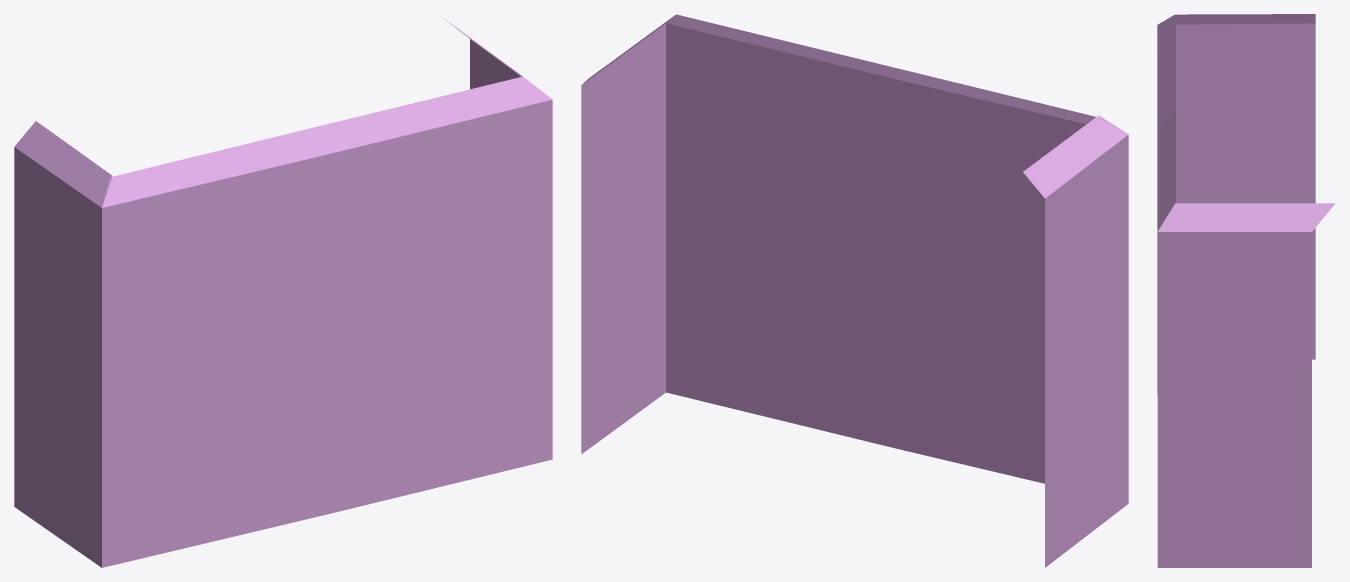
Rendered from Museum_renfort_05.fbx.
3 renders of one model, left to right at view 1: azimuth 30°, elevation 25°; view 2: azimuth 150°, elevation 25°; view 3: azimuth 270°, elevation 25°, orthographic. The views are drawn at different scales.
Visible parts, largest first — view 1: Archi_Renforts.005; view 2: Archi_Renforts.005; view 3: Archi_Renforts.005.
Boxes of the visible parts, x1=… form: Archi_Renforts.005: x1=14, y1=18, x2=552, y2=567; Archi_Renforts.005: x1=581, y1=14, x2=1128, y2=567; Archi_Renforts.005: x1=1157, y1=14, x2=1335, y2=567.
Bounding box in the file's own units: 90.59 × 72.89 × 32.96.
